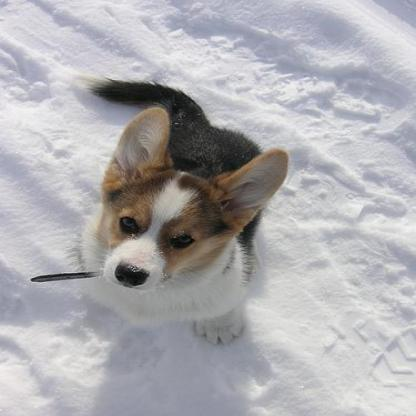Pembroke: (78, 80, 289, 344)
